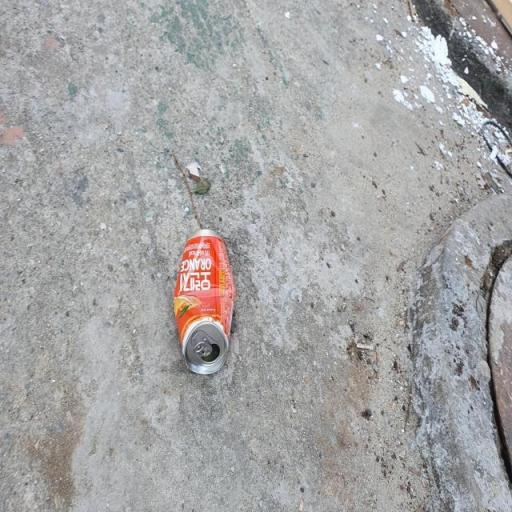metal: (170, 222, 240, 372)
